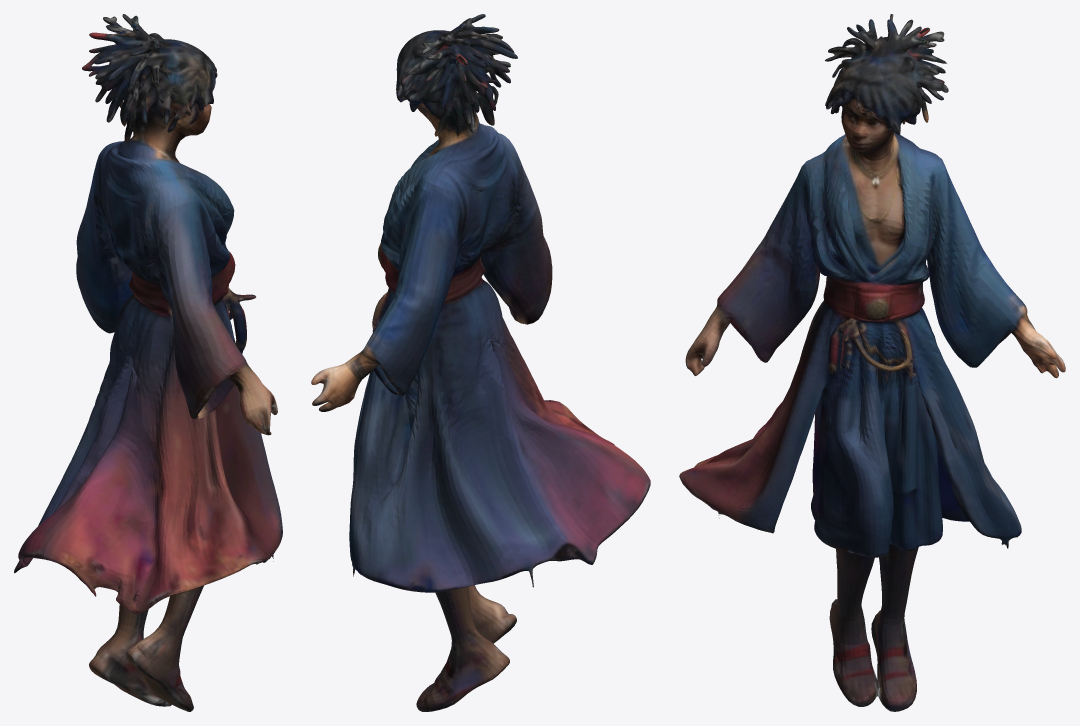
The model's file is modelo6.glb.
3 views of the same model, side by side, from view 1: azimuth 30°, elevation 25°; view 2: azimuth 150°, elevation 25°; view 3: azimuth 270°, elevation 25° (orthographic). The views are drawn at different scales.
Visible parts, largest first — view 1: tripo_node_1f220ba0-acbb-4582-a618-f42eb8ddb8ca; view 2: tripo_node_1f220ba0-acbb-4582-a618-f42eb8ddb8ca; view 3: tripo_node_1f220ba0-acbb-4582-a618-f42eb8ddb8ca.
Part boxes in pixels (<box>): tripo_node_1f220ba0-acbb-4582-a618-f42eb8ddb8ca: <box>14,14,282,711</box>; tripo_node_1f220ba0-acbb-4582-a618-f42eb8ddb8ca: <box>311,14,650,711</box>; tripo_node_1f220ba0-acbb-4582-a618-f42eb8ddb8ca: <box>679,14,1065,711</box>.
Size of the model in its own units: 0.3866 by 0.9946 by 0.5175.
1 material, 1 textured.
